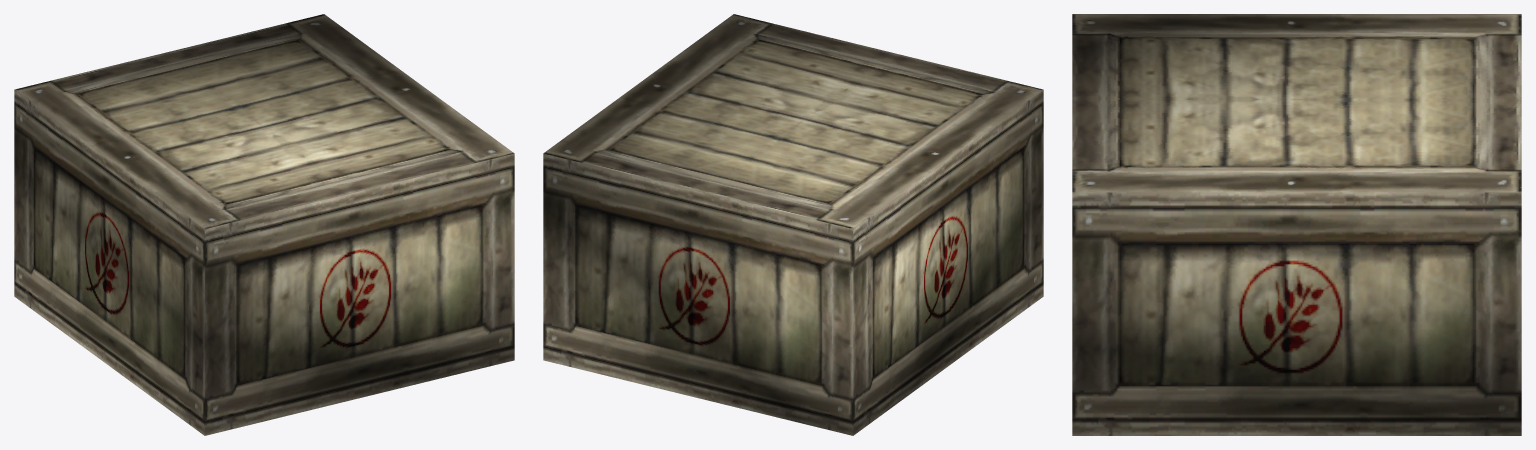
The model's file is crategrain01.glb.
3 renders of one model, left to right at view 1: azimuth 30°, elevation 25°; view 2: azimuth 150°, elevation 25°; view 3: azimuth 270°, elevation 25°, orthographic. The views are drawn at different scales.
Bounding box in the file's own units: 1.24 × 0.7924 × 1.32.
1 material, 1 textured.
